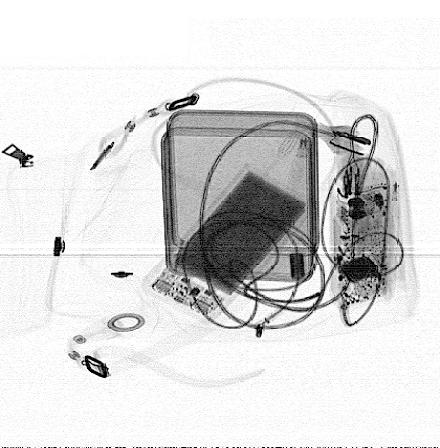Powerbank: (142, 164, 312, 320)
